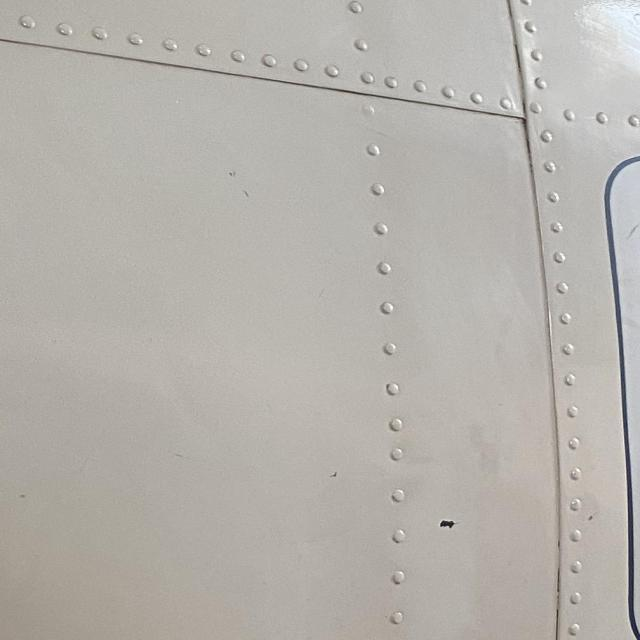Paint-off: (438, 519, 460, 530), (584, 515, 596, 521)
